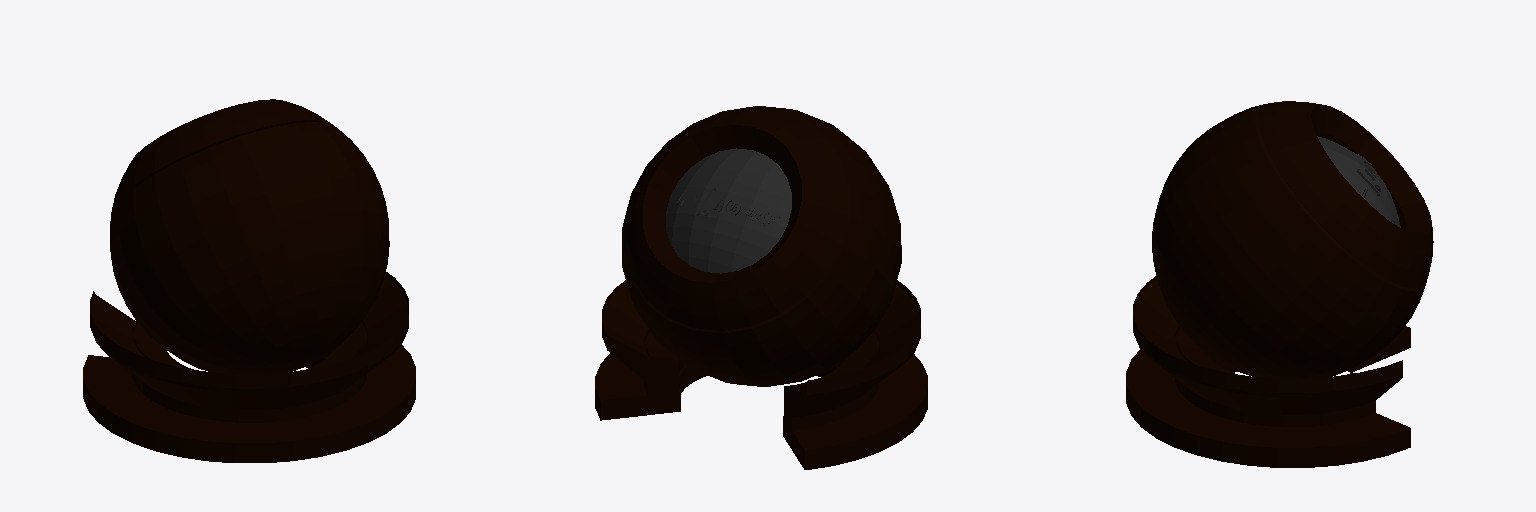
Rendered from knob.obj.
3 renders of one model, left to right at view 1: azimuth 30°, elevation 25°; view 2: azimuth 150°, elevation 25°; view 3: azimuth 270°, elevation 25°, orthographic.
Visible parts, largest first — view 1: knob; view 2: knob, sphere_testObj.002; view 3: knob, sphere_testObj.002.
Boxes of the visible parts, box(x1,y1,x2,y2) form: knob: box(83, 99, 415, 462); knob: box(595, 106, 927, 469); sphere_testObj.002: box(666, 148, 791, 273); knob: box(1126, 101, 1433, 467); sphere_testObj.002: box(1317, 136, 1400, 227).
Bounding box in the file's own units: 1.08 × 1.02 × 0.9993.